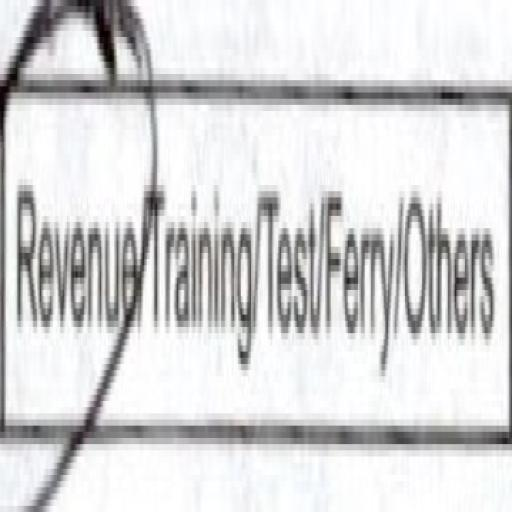check: (0, 0, 140, 491)
